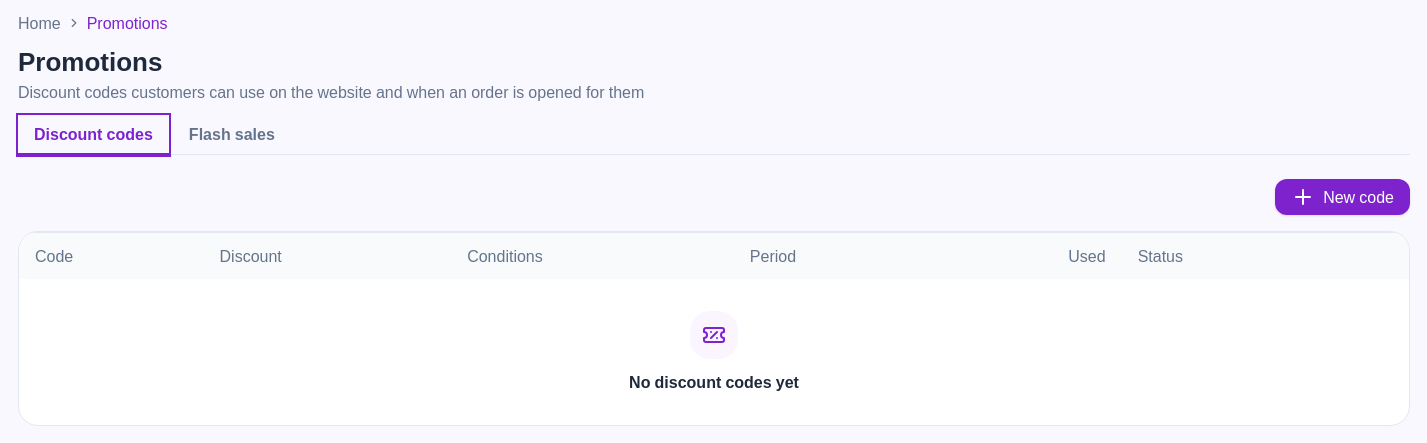
Test: PromotionsPage › ແຖບ: ເລີ່ມທີ່ໂຄດສ່ວນຫຼຸດ; ກົດ/ລູກສອນ ປ່ຽນໄປ Flash Sale ແລະ ດຶງຂໍ້ມູນສະເພາະແຖບທີ່ເປີດ
Check: the text "No discount codes yet" is shown, box [629,370,799,392]
Press Arrowright
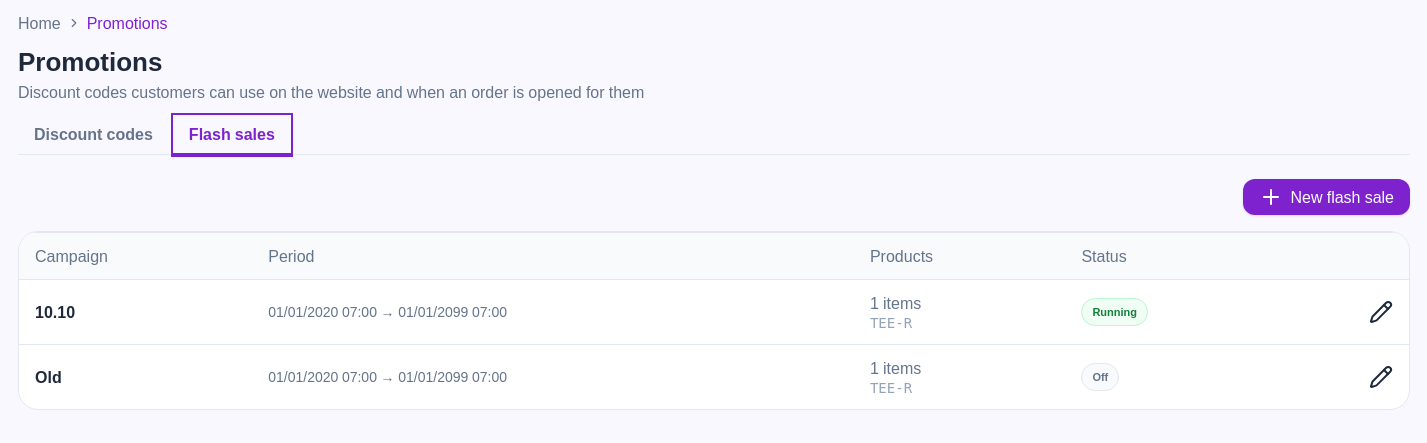
Check: the row with test id "row-flash-sale-f1" is shown, box [19,279,1409,344]
Click the tab "Discount codes". click: x=93, y=134
box: [18,114,169,154]
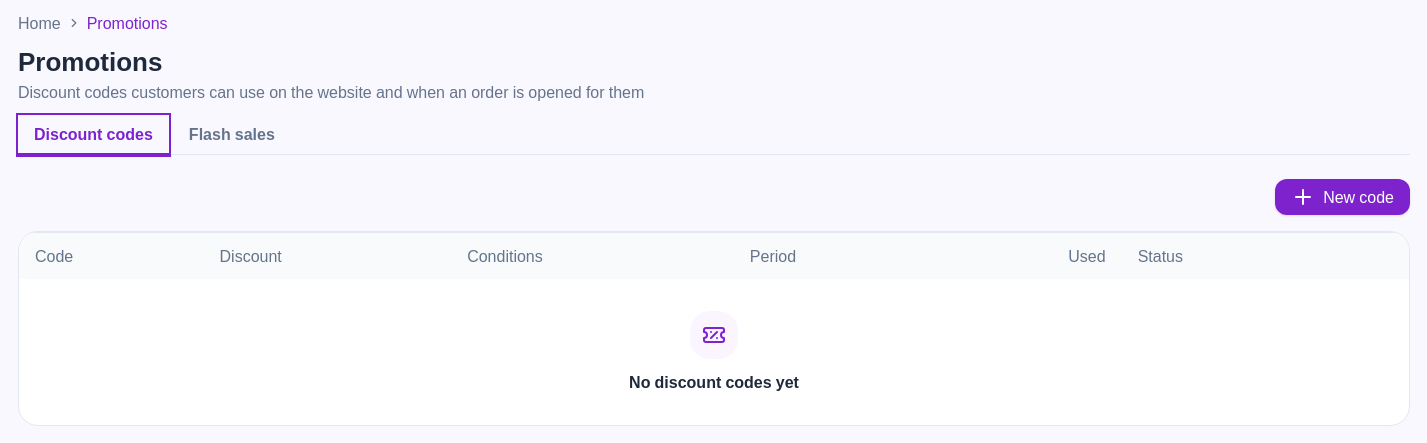
Check: the text "No discount codes yet" is shown, box [629,370,799,392]
